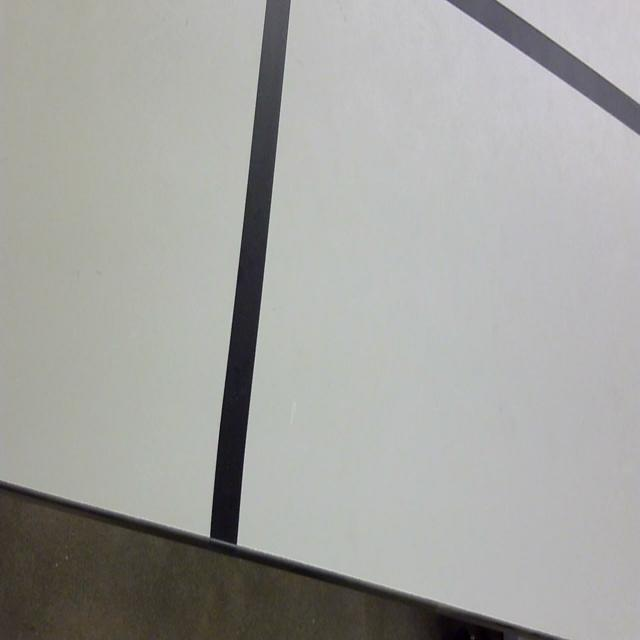tape: (202, 0, 306, 565), (428, 0, 640, 166)
